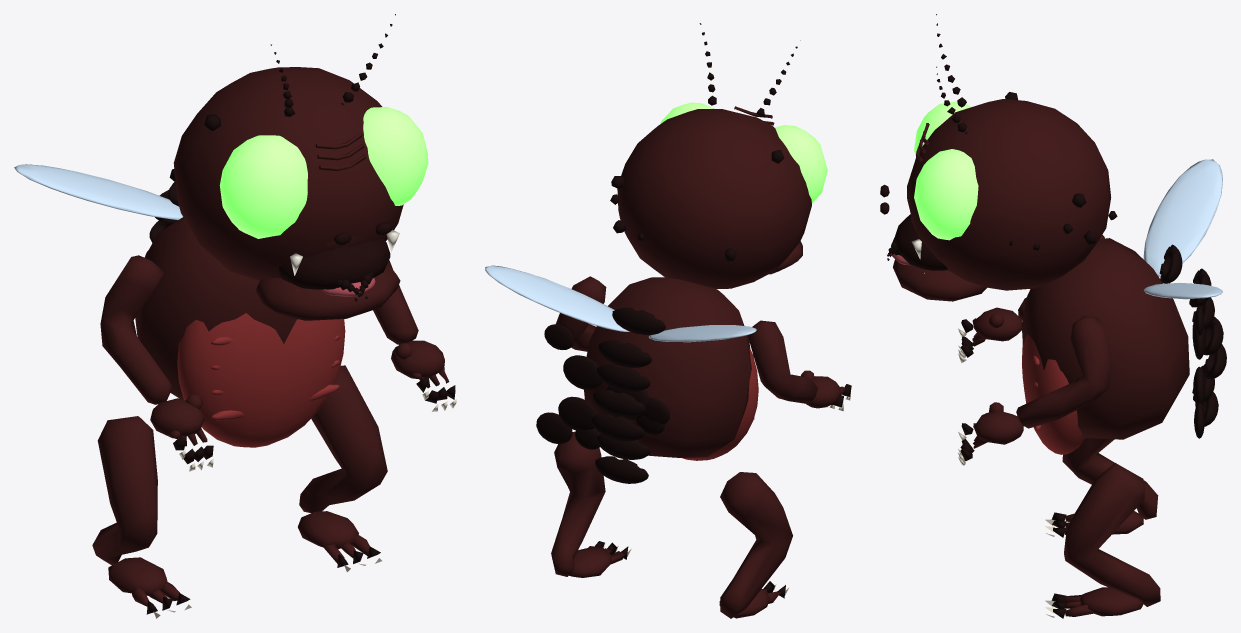
The model's file is svaerm_2.glb.
3 renders of one model, left to right at view 1: azimuth 30°, elevation 25°; view 2: azimuth 150°, elevation 25°; view 3: azimuth 270°, elevation 25°, orthographic. The views are drawn at different scales.
Visible parts, largest first — view 1: hoved_net, krop_net, benH_net, benV_net, armH_net, armV_net; view 2: krop_net, hoved_net, benH_net, benV_net, armH_net, armV_net; view 3: hoved_net, krop_net, benV_net, armV_net, benH_net, armH_net.
Boxes of the visible parts, <box> form: hoved_net: <box>169,14,428,320</box>; krop_net: <box>14,164,345,447</box>; benH_net: <box>92,416,191,618</box>; benV_net: <box>298,365,387,571</box>; armH_net: <box>100,255,213,471</box>; armV_net: <box>373,260,456,411</box>; krop_net: <box>485,265,758,483</box>; hoved_net: <box>610,23,827,288</box>; benH_net: <box>719,472,792,618</box>; benV_net: <box>551,431,631,577</box>; armH_net: <box>747,320,851,411</box>; armV_net: <box>556,276,606,351</box>; hoved_net: <box>880,14,1117,301</box>; krop_net: <box>1021,159,1226,454</box>; benV_net: <box>1045,463,1160,618</box>; armV_net: <box>958,316,1111,465</box>; benH_net: <box>1045,438,1158,537</box>; armH_net: <box>958,235,1104,363</box>.
Bounding box in the file's own units: 0.5107 × 0.9204 × 0.5426.
